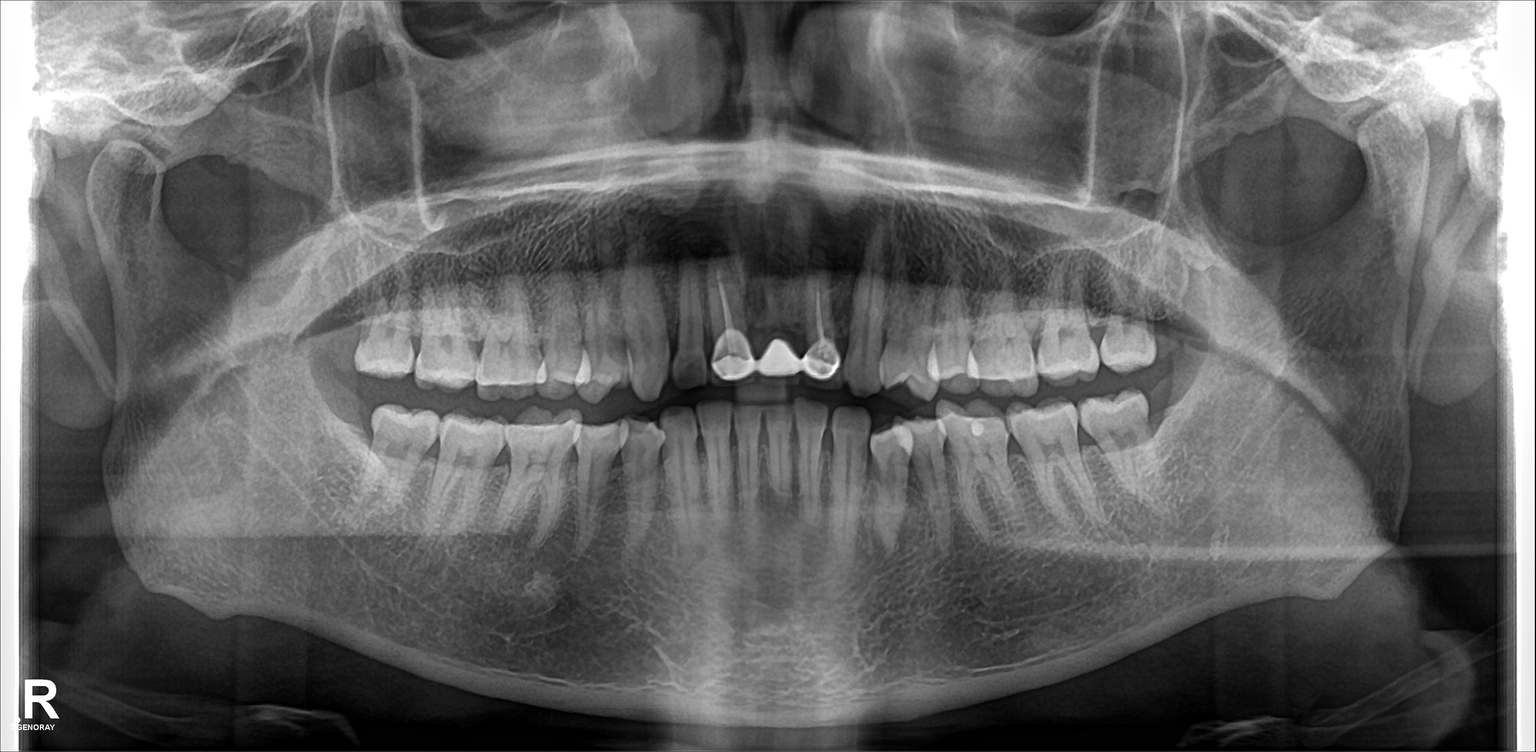Endodontically Treated Tooth: (710, 270, 752, 381), (805, 289, 840, 377)
Missing Tooth: (328, 376, 369, 472), (326, 302, 364, 359)
